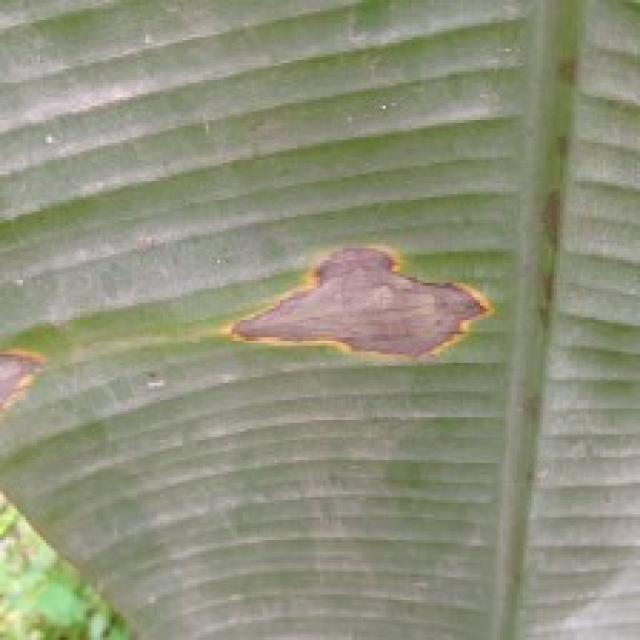Bacterial_spot: (230, 226, 519, 404), (0, 313, 60, 440)
